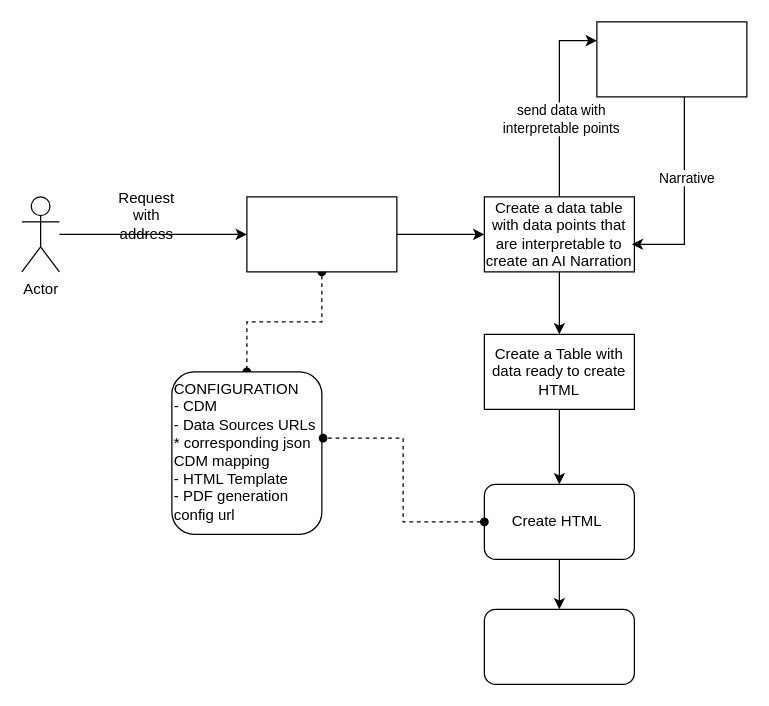
This 769x706 diagram has some shape labels left out. Here are the shapes that lost their labels. From the top down, the centre of each, then its label:
At (x=671, y=59): "AI creating Narrative based on Data points".
At (x=321, y=234): "Fetch data from different sources".
At (x=558, y=646): "Save in Blob storage".
